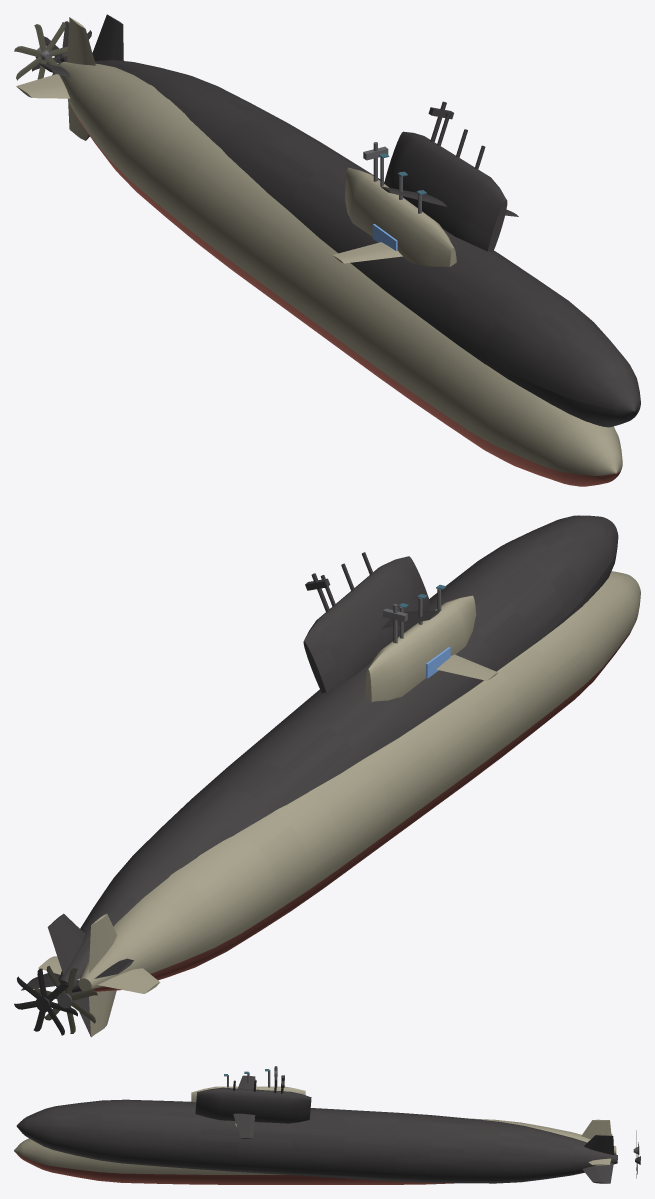
Rendered from submarine__oyashio_class.glb.
3 renders of one model, top to bottom at view 1: azimuth 30°, elevation 25°; view 2: azimuth 150°, elevation 25°; view 3: azimuth 270°, elevation 25°, orthographic. The views are drawn at different scales.
Parts seen in each view (by area): view 1: Hull_Mesh, Wreck; view 2: Hull_Mesh, Wreck; view 3: Wreck, Hull_Mesh.
Boxes of the visible parts, x1,y1,x2,y2 form: Hull_Mesh: (14,17,622,486); Wreck: (32,14,640,427); Hull_Mesh: (34,571,640,1036); Wreck: (14,515,618,1037); Wreck: (16,1075,640,1183); Hull_Mesh: (14,1069,639,1184).
Size of what is drawn, in the model's own units: 14.56 by 17.86 by 81.09.
